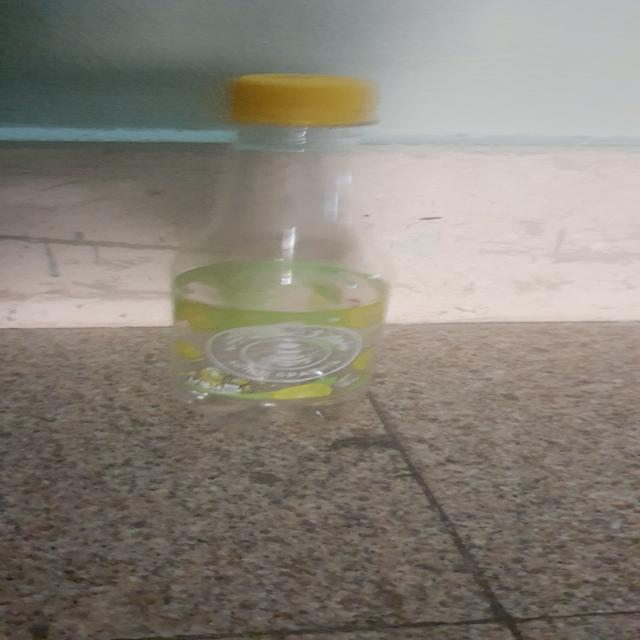plastic: (166, 72, 391, 424)
